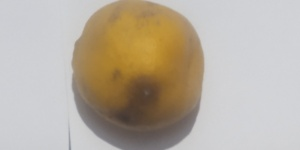BAD: (70, 1, 204, 135)
